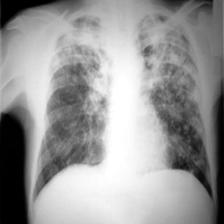tuberculosis: (30, 7, 214, 212)
